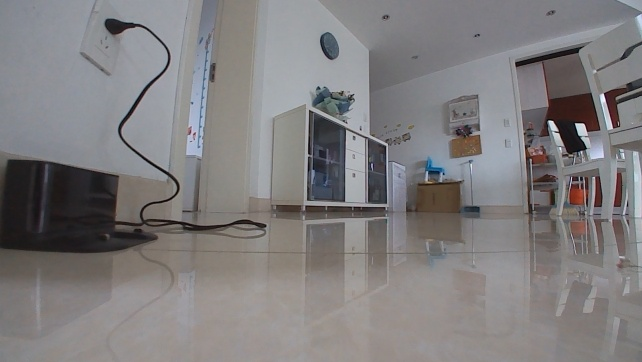charger: (1, 156, 160, 255)
dining_table1: (541, 4, 641, 219)
wire: (105, 15, 269, 233)
